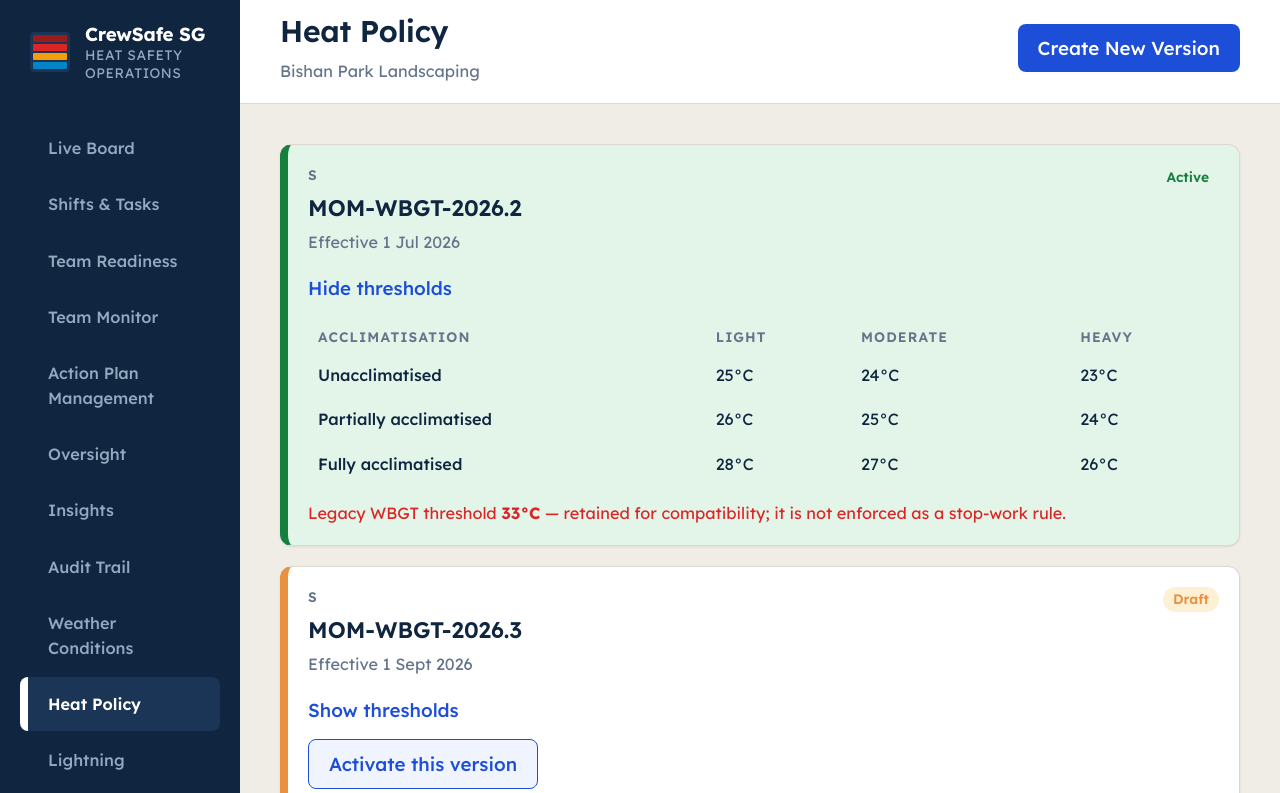
Test case: PolicyVersionList › reflects the new ACTIVE and previous SUPERSEDED after confirming, without a manual refresh
The image size is (1280, 793).
Click the button "Activate this version": coordinates (423, 764) [308,739,538,789]
(page scrolled)
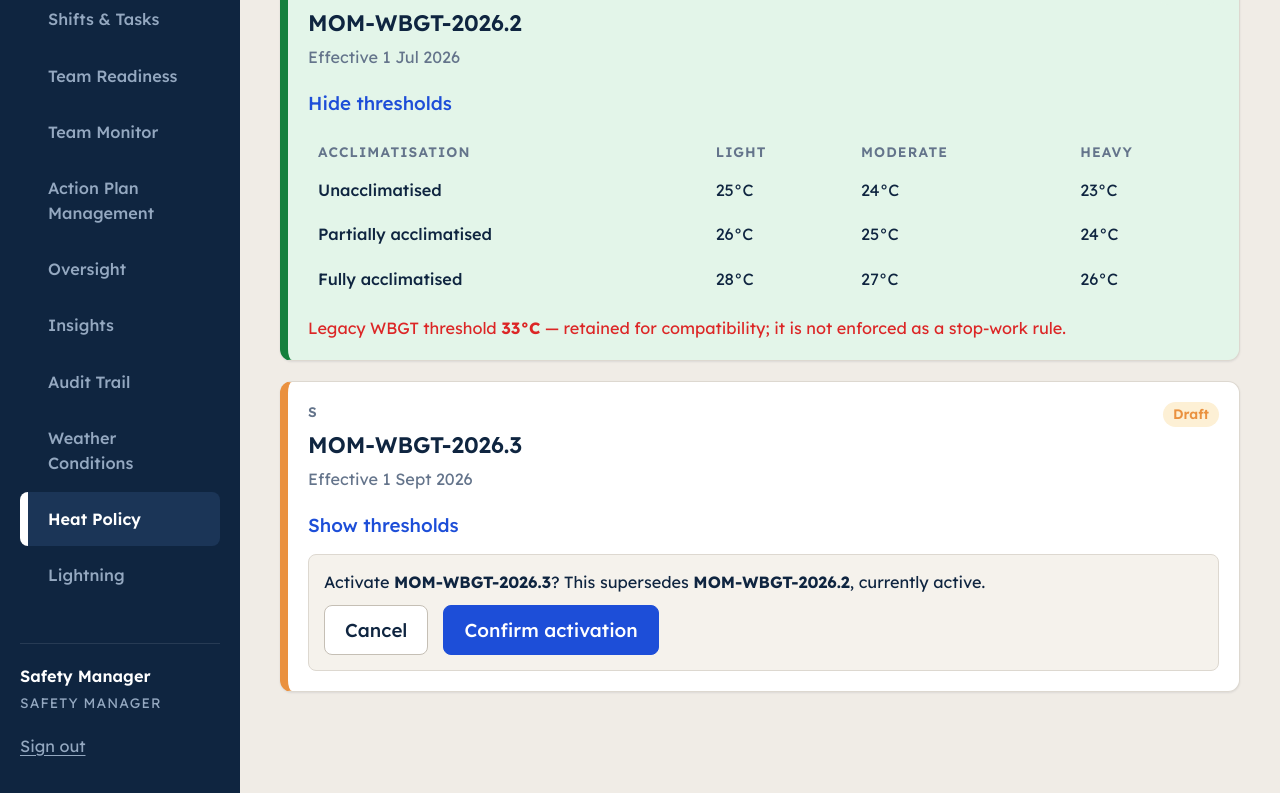
Click the button "Confirm activation": coordinates (551, 630) [443,605,659,655]
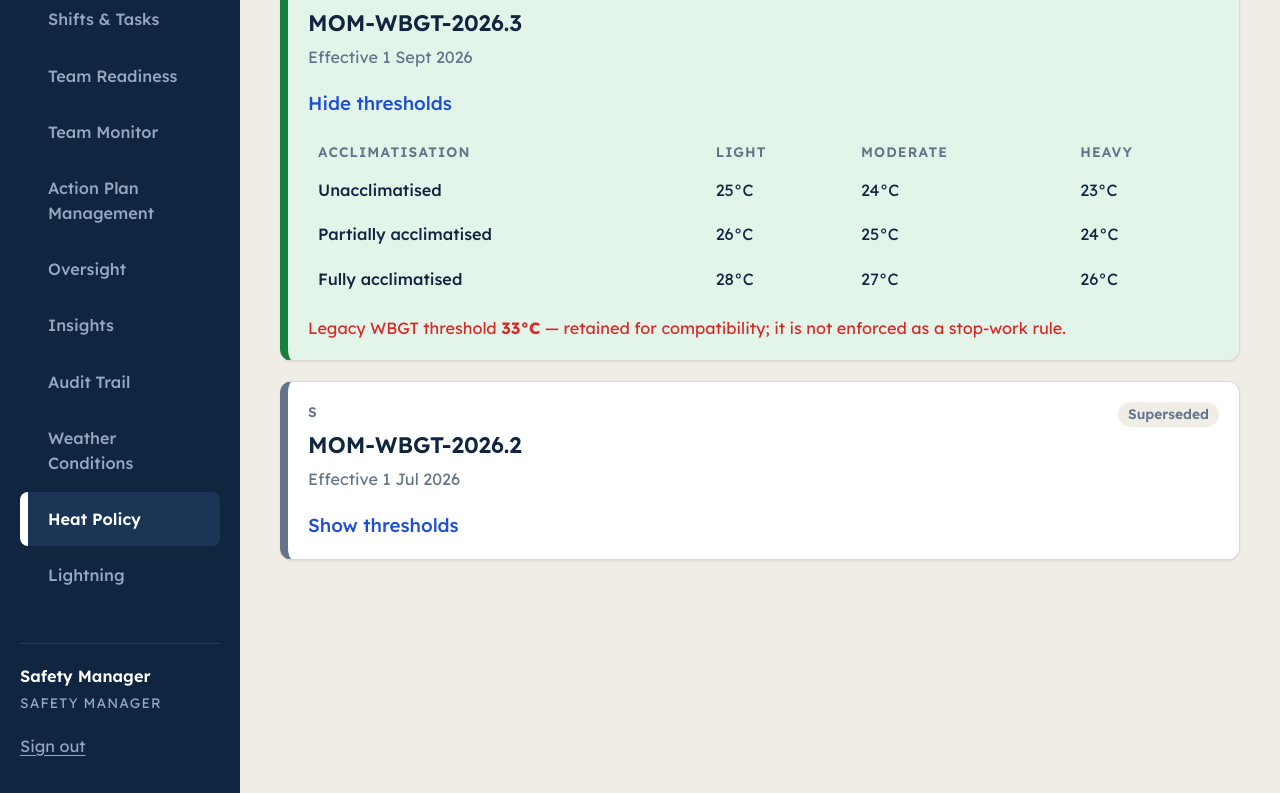
Check: the text "Superseded" is shown, box [1118,402,1219,427]
Check: the text "Draft" is gone
